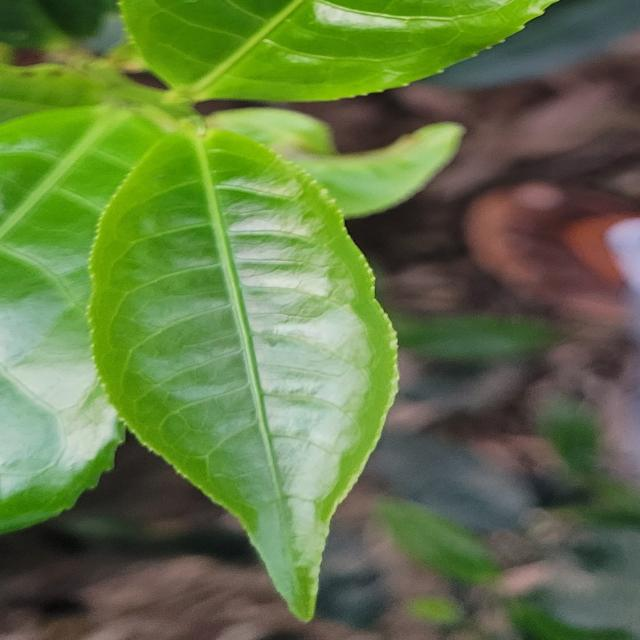Catagory A(1-2 days): (72, 104, 408, 622)
